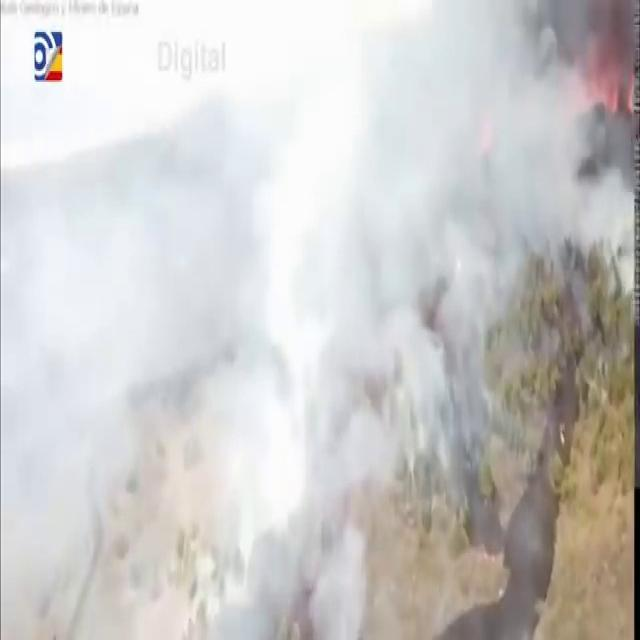Smoke: (6, 0, 619, 638)
